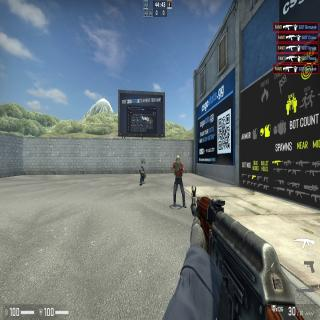T-Body: (172, 154, 184, 207)
T-Head: (176, 155, 180, 164)
